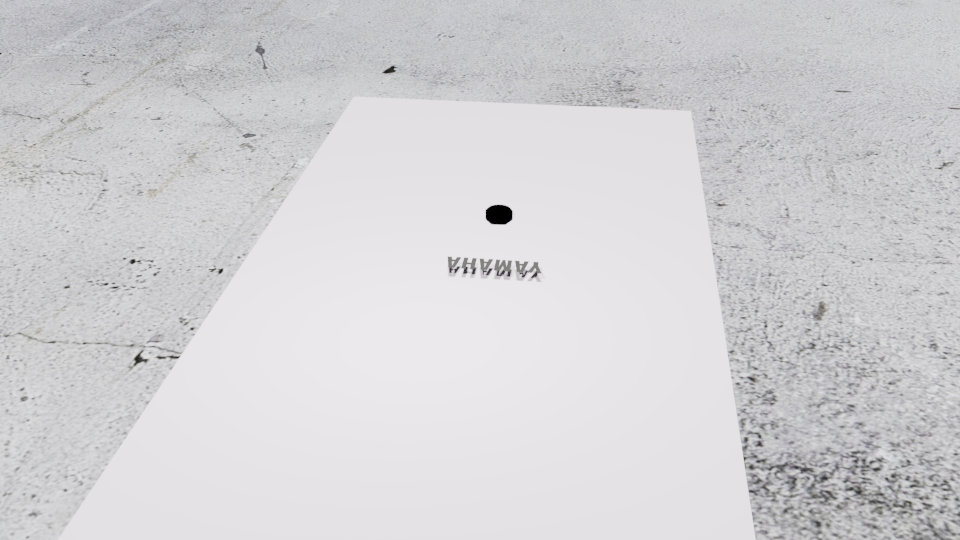yamaha_letters: (446, 255, 542, 274)
